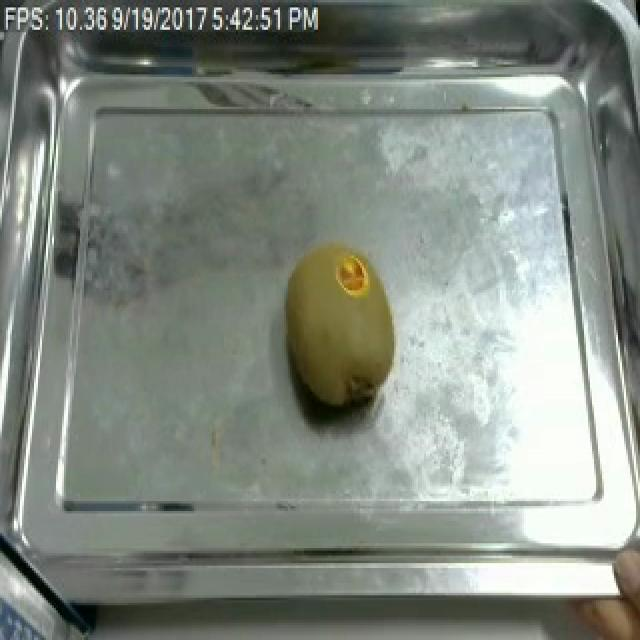Fruit: (274, 236, 408, 417)
